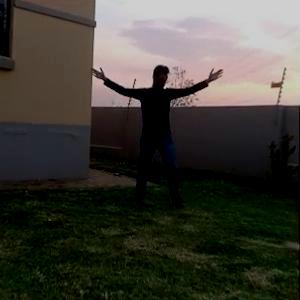takeoff: (92, 67, 220, 208)
